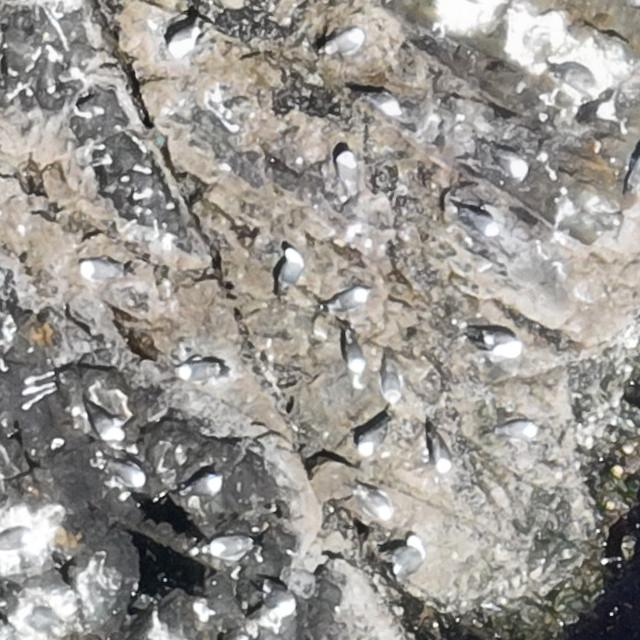umineko: (473, 326, 522, 359), (392, 534, 426, 580), (88, 400, 125, 440), (489, 147, 526, 182), (318, 29, 364, 56), (458, 204, 500, 233), (360, 90, 403, 118), (108, 459, 144, 487), (335, 149, 356, 197), (361, 488, 391, 520), (1, 524, 35, 551), (382, 355, 400, 406), (361, 423, 388, 453), (81, 261, 119, 280), (330, 289, 365, 309), (211, 539, 246, 559), (284, 251, 304, 285), (185, 475, 219, 495), (178, 364, 212, 382), (499, 420, 536, 436), (347, 338, 364, 372), (172, 30, 198, 52), (433, 442, 448, 470)
